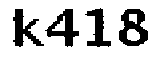1: (82, 7, 115, 51)
4: (46, 9, 80, 50)
8: (118, 7, 151, 48)
k: (10, 4, 44, 51)
